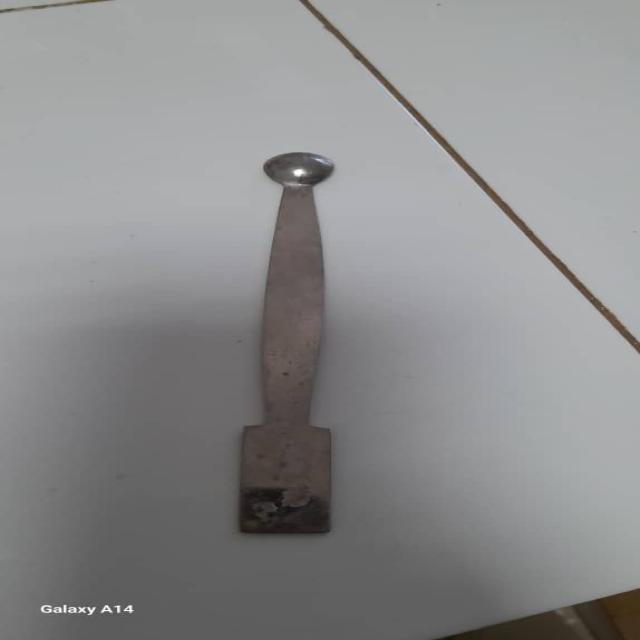Spatula: (229, 147, 353, 544)
